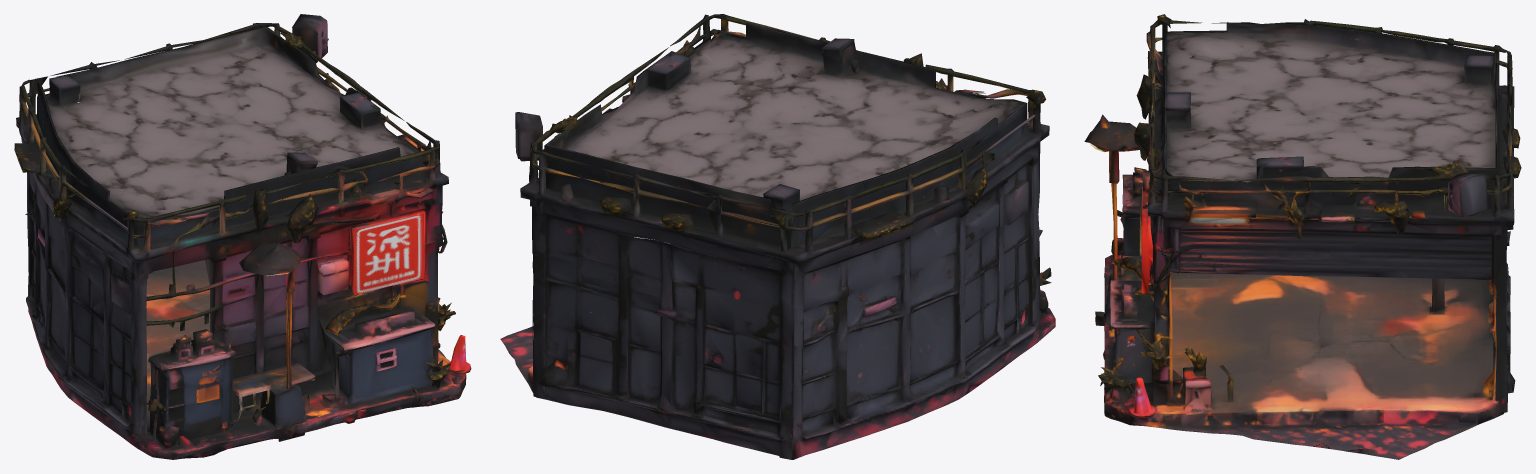
File: 01_garage_shell.glb
The picture shows the model from 3 angles, left to right: view 1: azimuth 30°, elevation 25°; view 2: azimuth 150°, elevation 25°; view 3: azimuth 270°, elevation 25°; orthographic projection. The views are drawn at different scales.
Parts seen in each view (by area): view 1: tripo_node_de47b250-7bce-40ba-b2fe-4a11374a7a72; view 2: tripo_node_de47b250-7bce-40ba-b2fe-4a11374a7a72; view 3: tripo_node_de47b250-7bce-40ba-b2fe-4a11374a7a72.
Boxes of the visible parts, x1,y1,x2,y2 form: tripo_node_de47b250-7bce-40ba-b2fe-4a11374a7a72: [14, 14, 471, 459]; tripo_node_de47b250-7bce-40ba-b2fe-4a11374a7a72: [500, 14, 1055, 459]; tripo_node_de47b250-7bce-40ba-b2fe-4a11374a7a72: [1084, 14, 1521, 459].
Bounding box in the file's own units: 13.42 × 8 × 12.27.
Materials: 1 (1 with a texture image).
